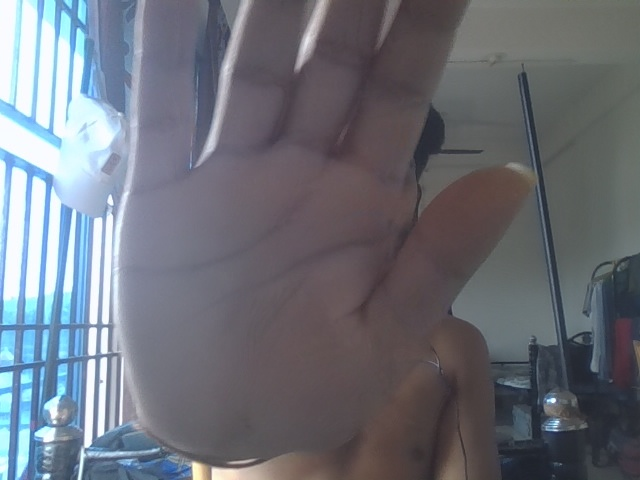hello: (84, 4, 558, 466)
